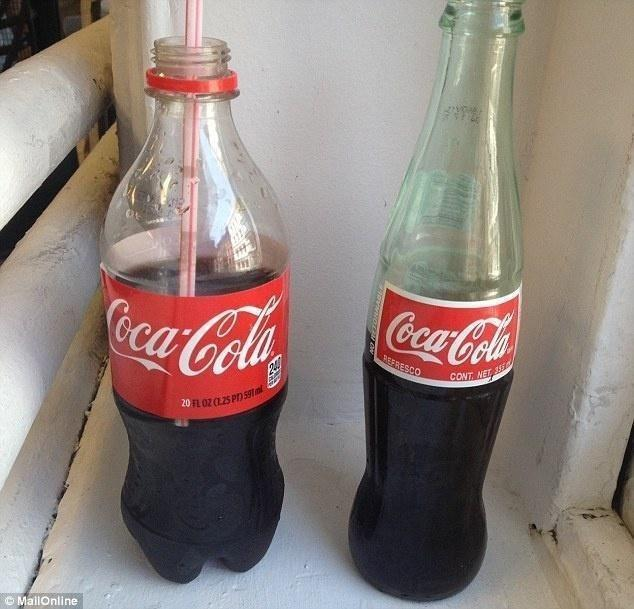bottle-glass: (346, 1, 535, 605)
bottle-plastic: (99, 31, 295, 583)
